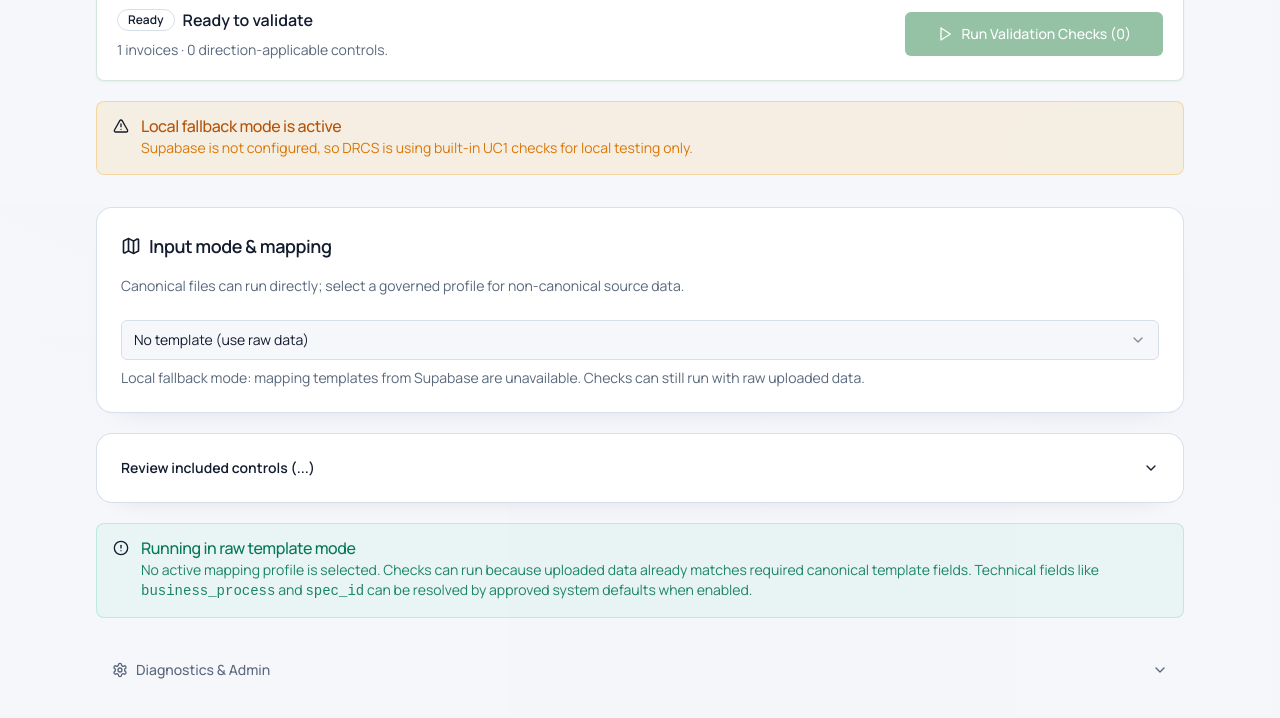
Test: RunChecksPage reference-term labeling › shows authoritative coverage DRs separately from metadata-only reference terms
The image size is (1280, 718).
(page scrolled)
What coordinates should you click on to do the following:
click the button with aria-label "Expand included controls"
I would click on:
 (209, 468)
Its box is 97,434 -> 1183,502.
(page scrolled)
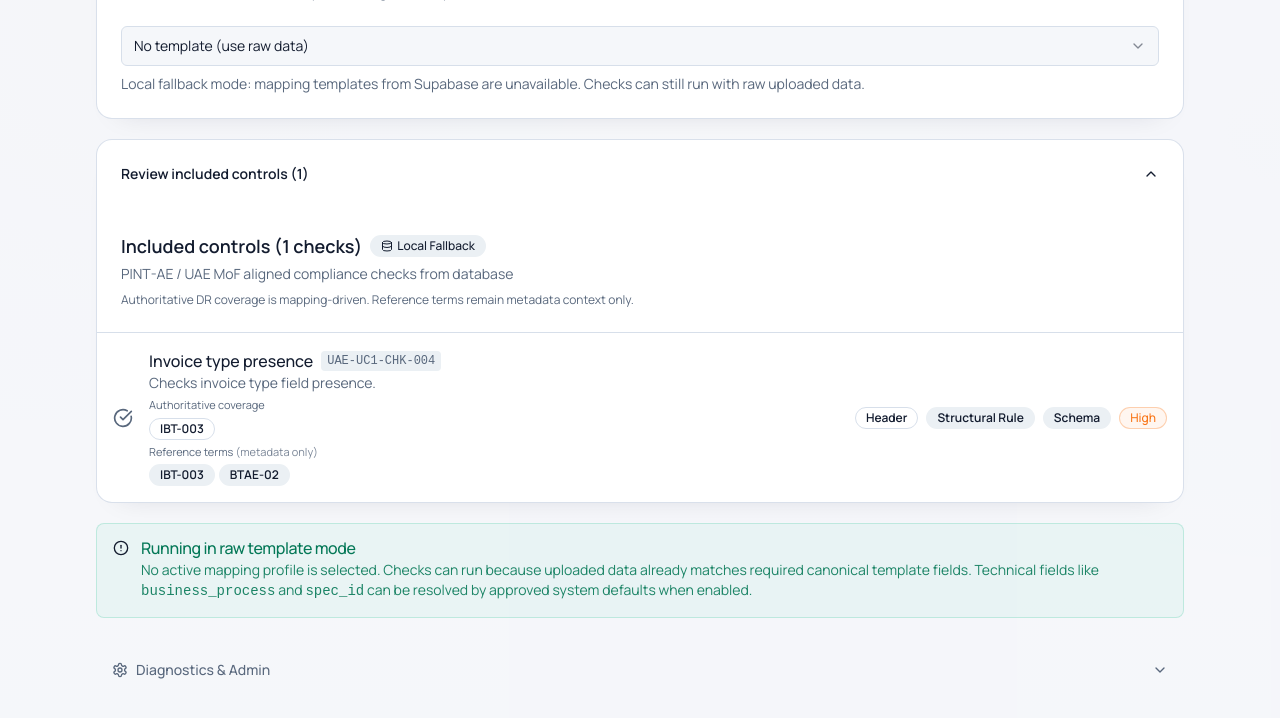
Now the text "Invoice type presence" is shown, box 149,349 -> 313,373
Now the text "Authoritative coverage" is shown, box 149,397 -> 265,412
Now the text "Reference terms" is shown, box 149,444 -> 236,458
